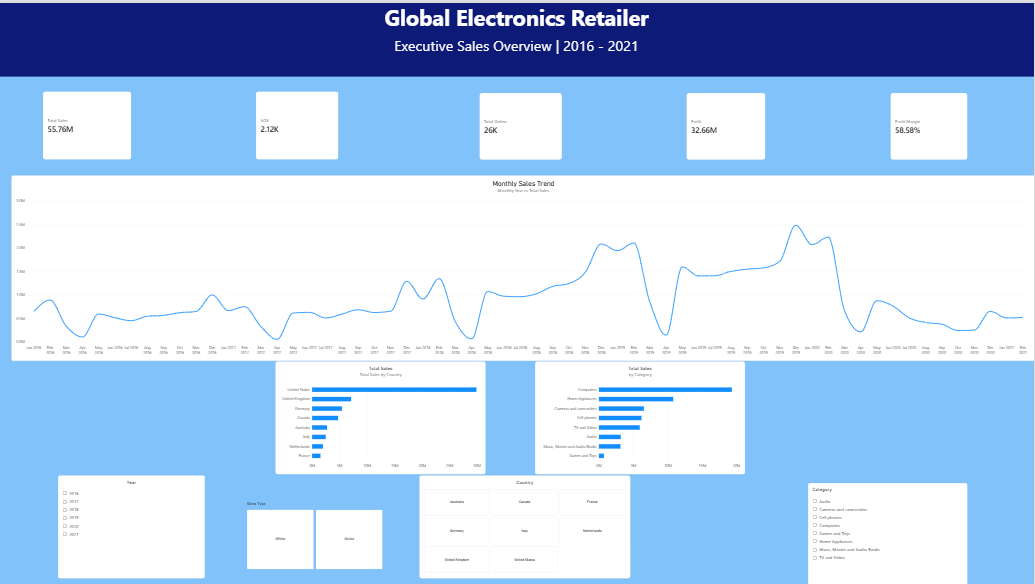

The dashboard page shown, as its layout file describes it:
{"tool":"powerbi","page":{"name":"Executive Overview","canvas":[3840,2160],"ordinal":0},"visuals":[{"type":"textbox","title":"Global Electronics Retailer","box":[0,0,3840.9,272.7],"z":0},{"type":"cardVisual","fields":{"Data":["Sales_Cleaned.Total Sales"]},"box":[165,330,327.5,252.5],"z":1000},{"type":"cardVisual","fields":{"Data":["Sales_Cleaned.Total Orders"]},"box":[1781,335,305,247.5],"z":2000},{"type":"cardVisual","fields":{"Data":["Sales_Cleaned.Profit"]},"box":[2549,335,292.5,247.5],"z":3000},{"type":"cardVisual","fields":{"Data":["Sales_Cleaned.Profit Margin"]},"box":[3304.5,335,285,247.5],"z":4000},{"type":"lineChart","title":"Monthly Sales Trend","fields":{"Category":["DateTable.Month Year"],"Y":["Sales_Cleaned.Total Sales"]},"box":[50,636.4,3790.9,686.4],"z":5000},{"type":"clusteredBarChart","fields":{"Category":["Products_Cleaned.Category"],"Y":["Sales_Cleaned.Total Sales"]},"box":[1990,1330,778,417.1],"z":6000},{"type":"clusteredBarChart","title":"Total Sales","fields":{"Category":["Customers_Cleaned.Country"],"Y":["Sales_Cleaned.Total Sales"]},"box":[1030,1330,778,417.1],"z":7000},{"type":"listSlicer","fields":{"Values":["DateTable.Year"]},"box":[220,1750,543.9,380.5],"z":8000},{"type":"advancedSlicerVisual","fields":{"Values":["Customers_Cleaned.Country"]},"box":[1560,1750,780.5,380.5],"z":9000},{"type":"listSlicer","fields":{"Values":["Products_Cleaned.Category"]},"box":[3000,1780,590.2,380.5],"z":10000},{"type":"advancedSlicerVisual","fields":{"Values":["Stores.Store Type"]},"box":[920,1845,503,253],"z":10001},{"type":"cardVisual","fields":{"Data":["Sales_Cleaned.AOV"]},"box":[955,330,305,252.5],"z":10002}]}

Visuals, with their boxes in screenshot pixels (x1, y1, x2, y2), scaled from the page's 3840x2160 canvas onto the 1035x584 screenshot:
"Global Electronics Retailer" textbox: left=0, top=0, right=1034, bottom=74
cardVisual - Sales_Cleaned.Total Sales: left=44, top=89, right=133, bottom=157
cardVisual - Sales_Cleaned.Total Orders: left=480, top=91, right=562, bottom=157
cardVisual - Sales_Cleaned.Profit: left=687, top=91, right=766, bottom=157
cardVisual - Sales_Cleaned.Profit Margin: left=891, top=91, right=967, bottom=157
"Monthly Sales Trend" lineChart: left=13, top=172, right=1034, bottom=358
clusteredBarChart - Products_Cleaned.Category x Sales_Cleaned.Total Sales: left=536, top=360, right=746, bottom=472
"Total Sales" clusteredBarChart: left=278, top=360, right=487, bottom=472
listSlicer - DateTable.Year: left=59, top=473, right=206, bottom=576
advancedSlicerVisual - Customers_Cleaned.Country: left=420, top=473, right=631, bottom=576
listSlicer - Products_Cleaned.Category: left=809, top=481, right=968, bottom=583
advancedSlicerVisual - Stores.Store Type: left=248, top=499, right=384, bottom=567
cardVisual - Sales_Cleaned.AOV: left=257, top=89, right=340, bottom=157
